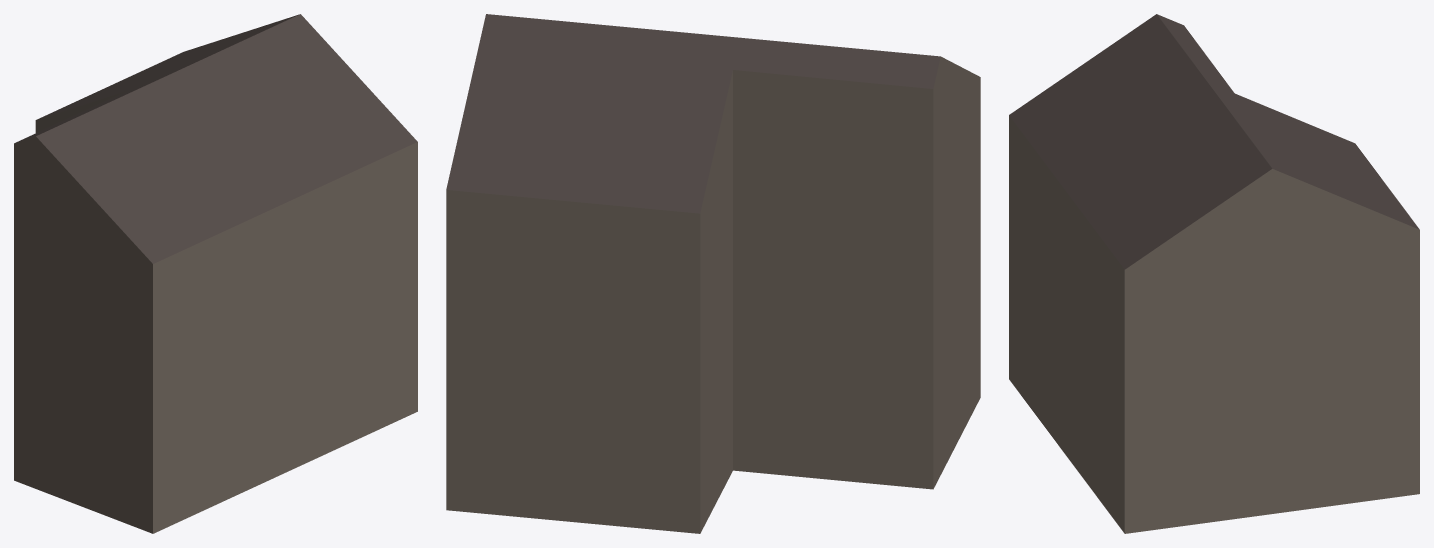
The picture shows the model from 3 angles, left to right: view 1: azimuth 30°, elevation 25°; view 2: azimuth 150°, elevation 25°; view 3: azimuth 270°, elevation 25°; orthographic projection. The views are drawn at different scales.
Parts seen in each view (by area): view 1: HP-w1198645098; view 2: HP-w1198645098; view 3: HP-w1198645098.
Part boxes in pixels (x1,y1,x2,y2): HP-w1198645098: [14, 14, 417, 533]; HP-w1198645098: [446, 14, 980, 533]; HP-w1198645098: [1009, 14, 1419, 533].
Size of the model in its own units: 8.69 by 7.84 by 8.46.
